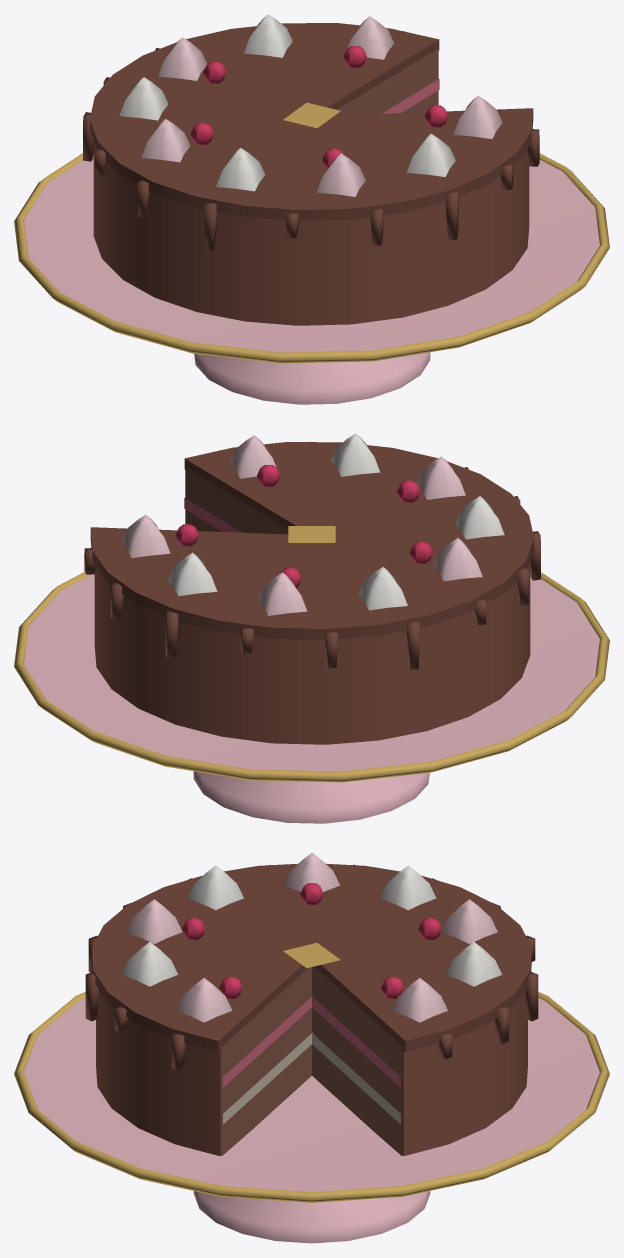
Rendered from chocolate_torte.glb.
3 renders of one model, top to bottom at view 1: azimuth 30°, elevation 25°; view 2: azimuth 150°, elevation 25°; view 3: azimuth 270°, elevation 25°, orthographic.
Parts seen in each view (by area): view 1: chocolate_torte; view 2: chocolate_torte; view 3: chocolate_torte.
Boxes of the visible parts, x1,y1,x2,y2 form: chocolate_torte: (14,14,609,404); chocolate_torte: (14,433,609,823); chocolate_torte: (14,853,609,1243).
Size of what is drawn, in the model's own units: 0.3 by 0.15 by 0.3.
